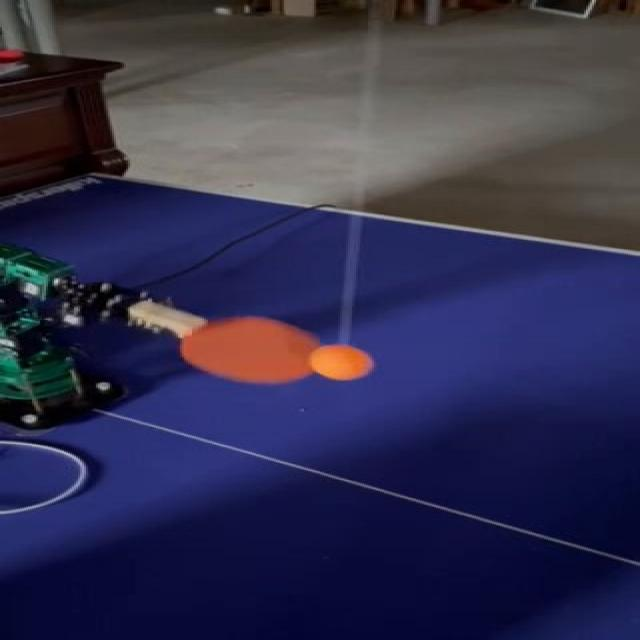ping-pong-ball: (308, 342, 370, 378)
